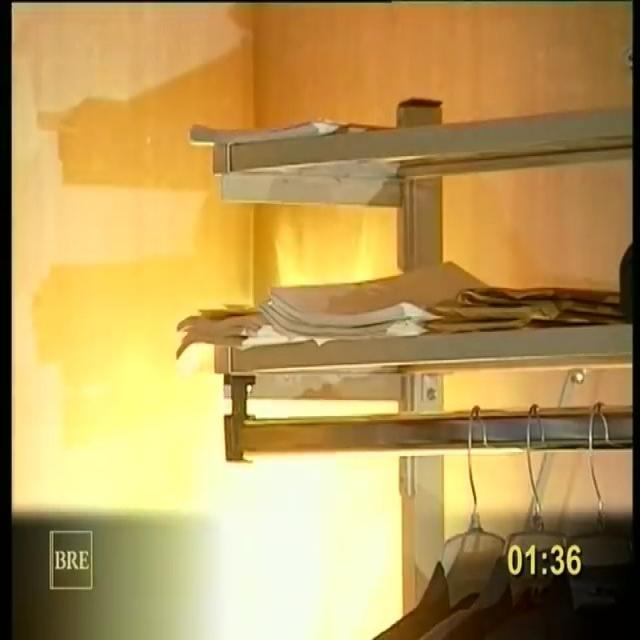Fire: (170, 364, 419, 640)
